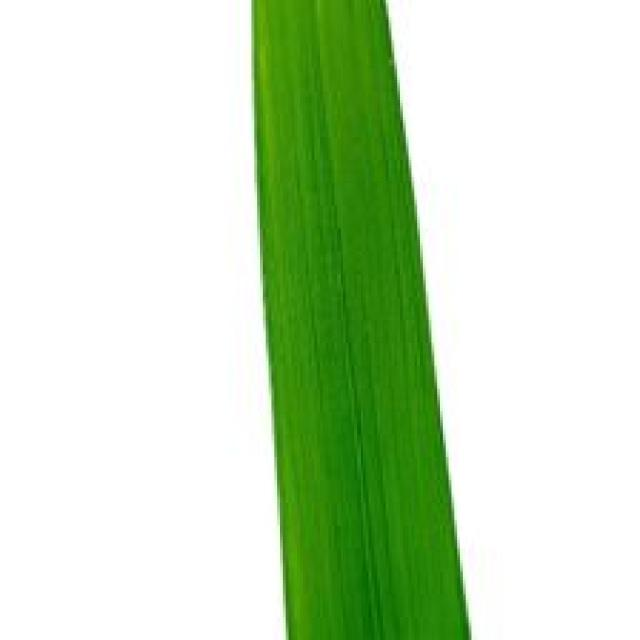Rice___Healthy_Rice_Plant: (252, 0, 473, 637)
